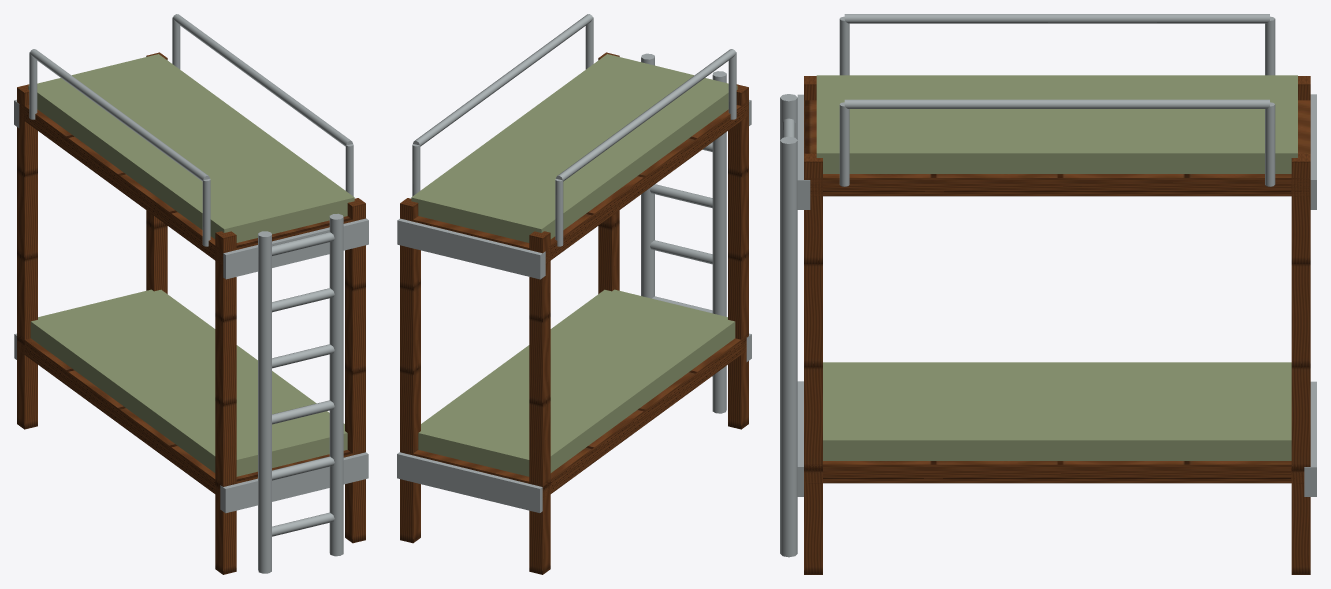
The model's file is bunker-shelter-construction-bunk-double-tier-91951c54__23325.glb.
3 renders of one model, left to right at view 1: azimuth 30°, elevation 25°; view 2: azimuth 150°, elevation 25°; view 3: azimuth 270°, elevation 25°, orthographic. The views are drawn at different scales.
Parts seen in each view (by area): view 1: bunk-double-tier; view 2: bunk-double-tier; view 3: bunk-double-tier.
Boxes of the visible parts, x1=… form: bunk-double-tier: x1=14, y1=14, x2=368, y2=574; bunk-double-tier: x1=397, y1=14, x2=751, y2=574; bunk-double-tier: x1=780, y1=14, x2=1316, y2=574.
Size of the model in its own units: 0.8399 by 2.07 by 2.12.
Materials: 3 (1 with a texture image).
